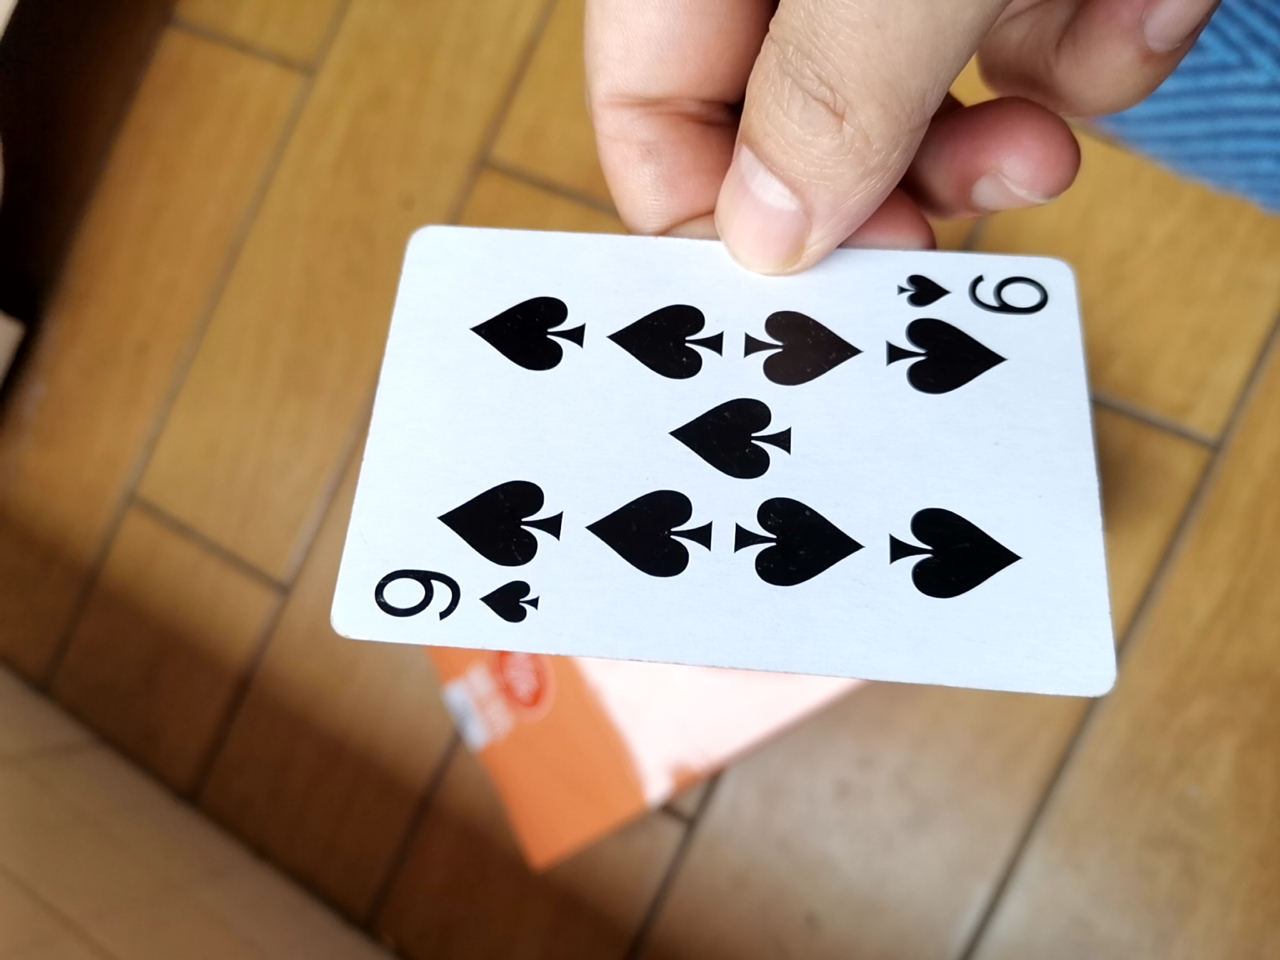ht 9: (300, 223, 1125, 721)
